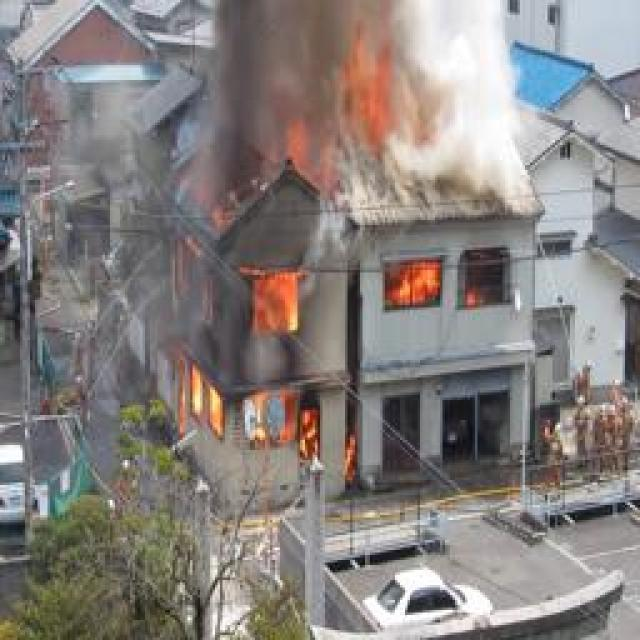Fire: (174, 189, 361, 488), (339, 16, 402, 150), (388, 266, 489, 306)
